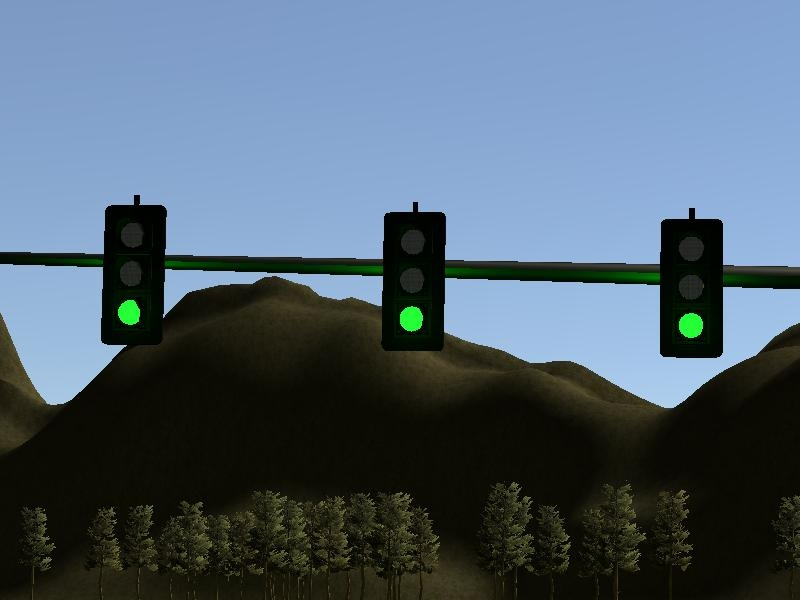Green: (659, 218, 726, 360), (382, 210, 446, 351), (102, 203, 165, 345)
